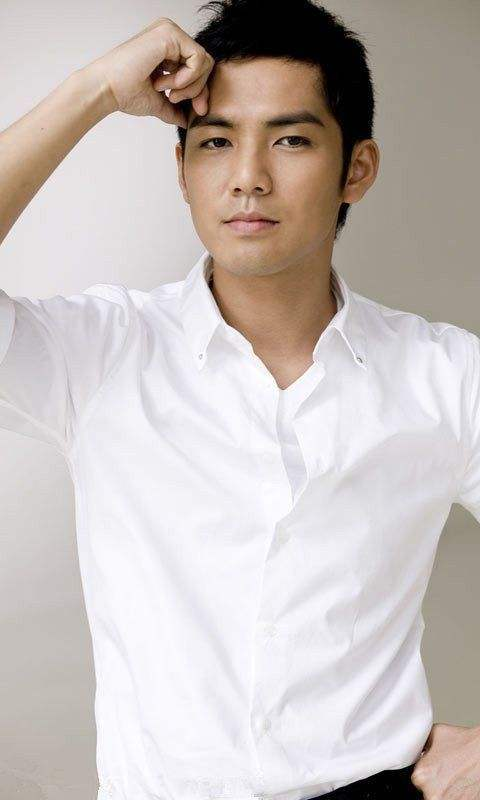person: (74, 9, 480, 723)
